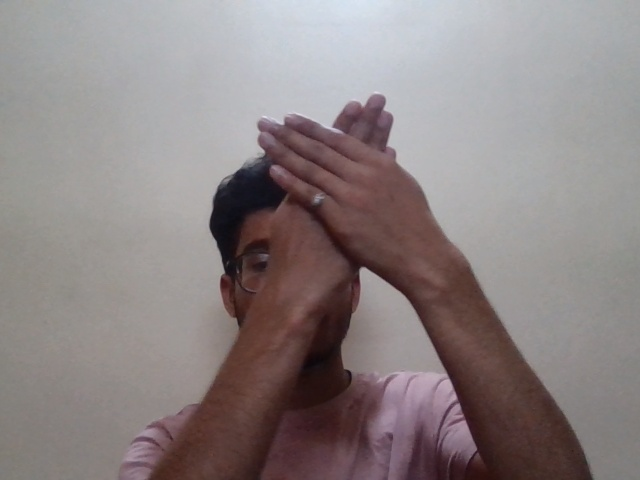what: (239, 94, 477, 329)
